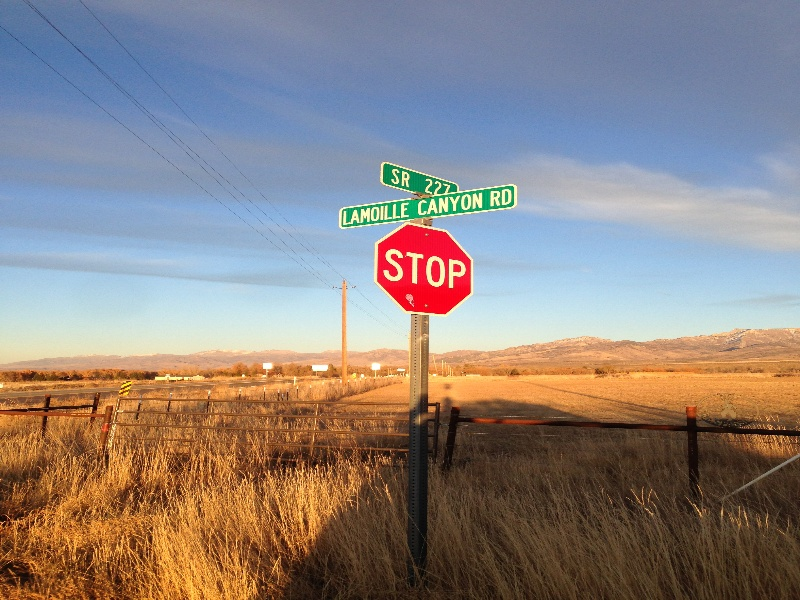stop sign: (371, 222, 476, 320)
